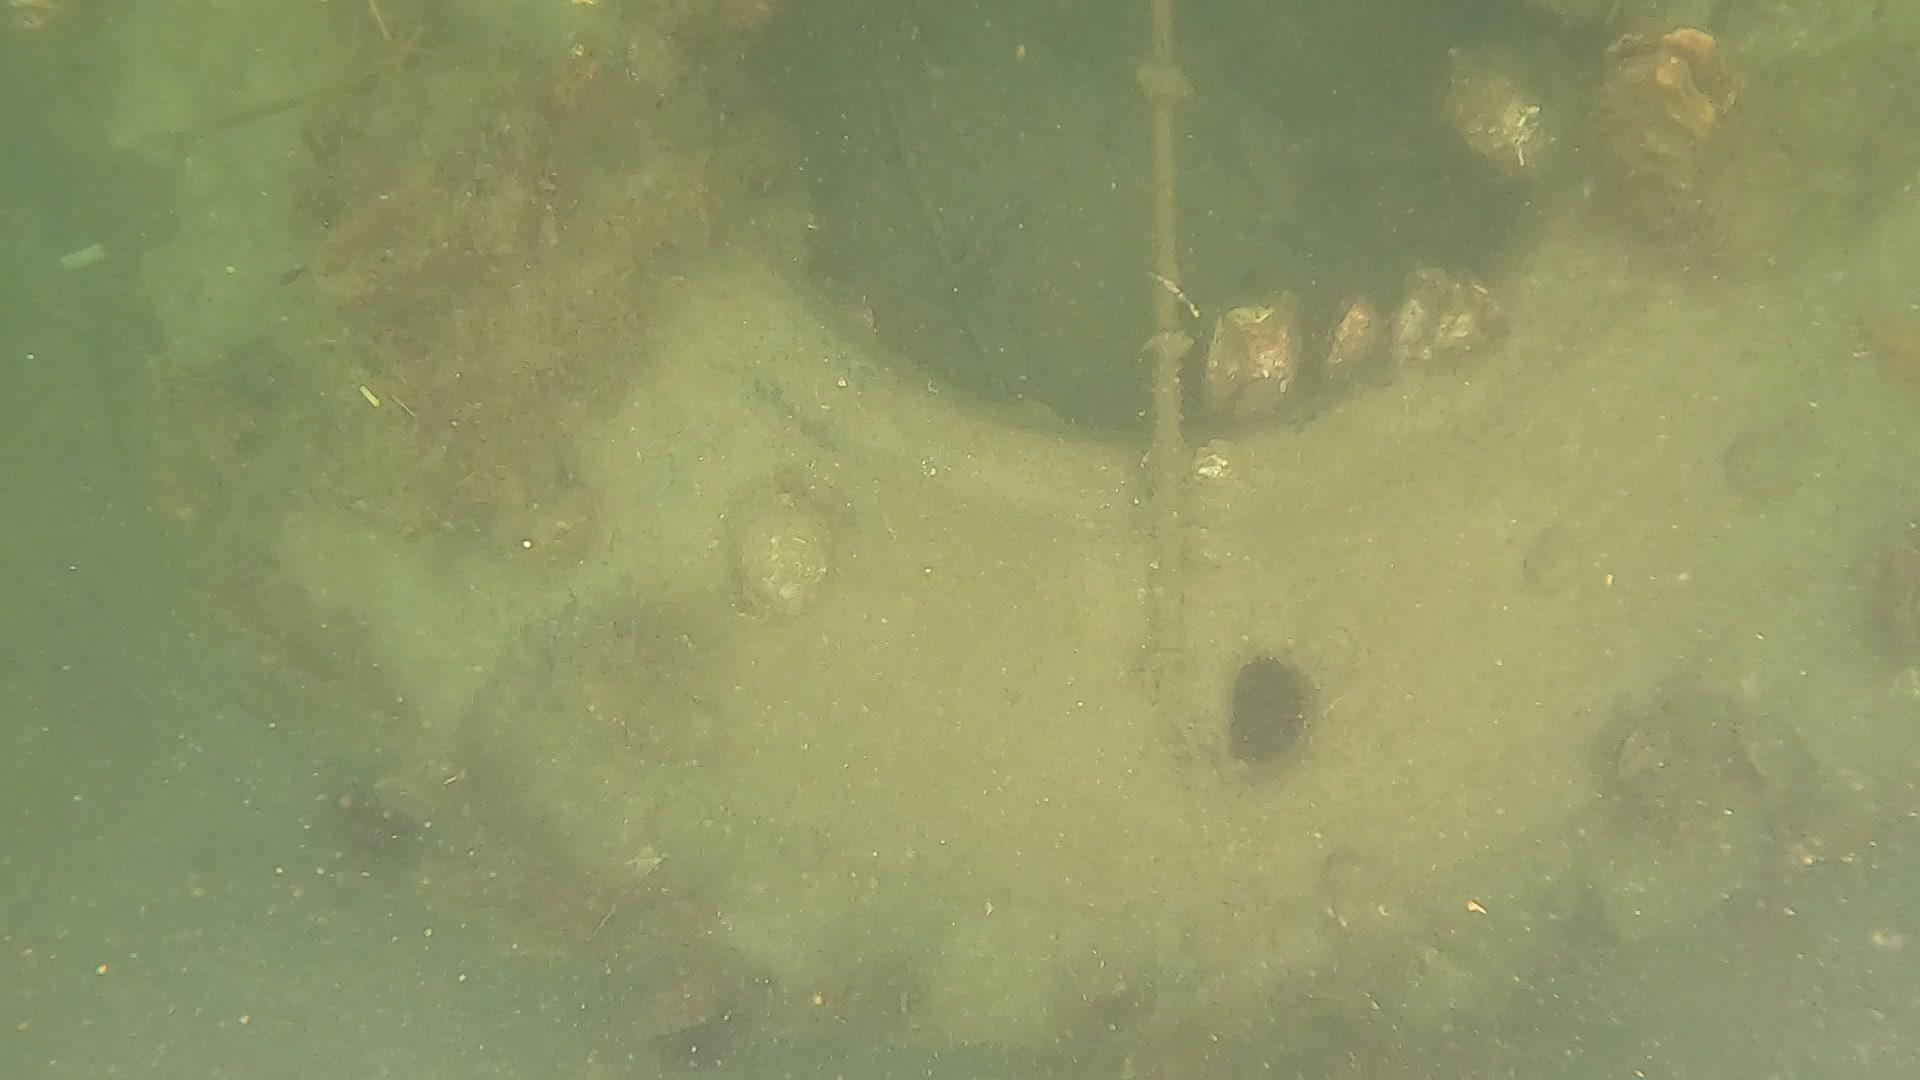tire: (96, 0, 1920, 1044)
